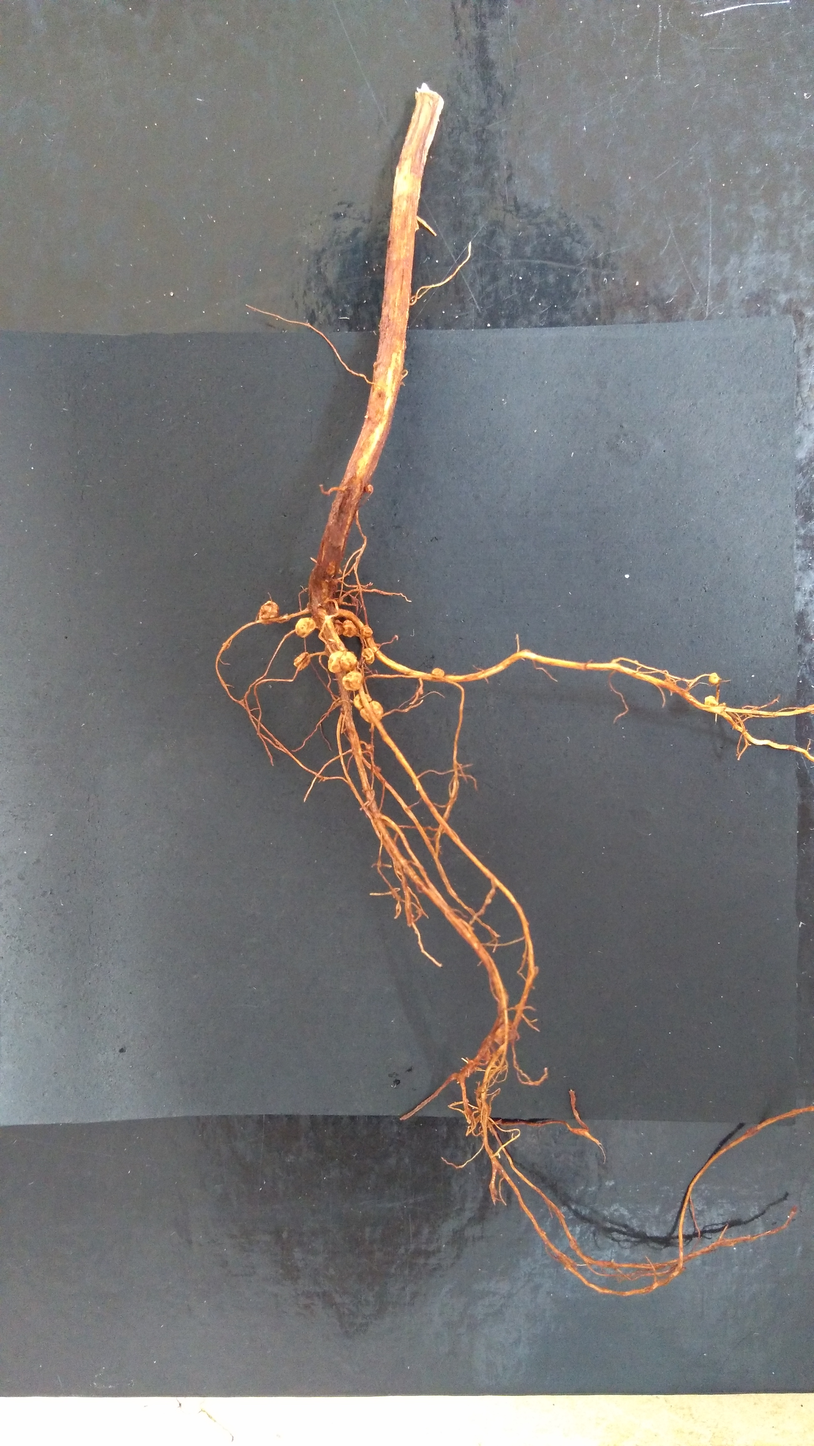nodule: (358, 699, 386, 725), (257, 598, 280, 627), (493, 1019, 516, 1048), (294, 616, 317, 640), (341, 670, 365, 692), (326, 650, 344, 674), (293, 650, 312, 671), (339, 650, 358, 671), (352, 692, 373, 711), (342, 618, 358, 639), (361, 647, 376, 666), (333, 618, 345, 637), (359, 624, 374, 638), (430, 667, 446, 680), (704, 695, 719, 707), (708, 672, 720, 686), (364, 483, 375, 495)
